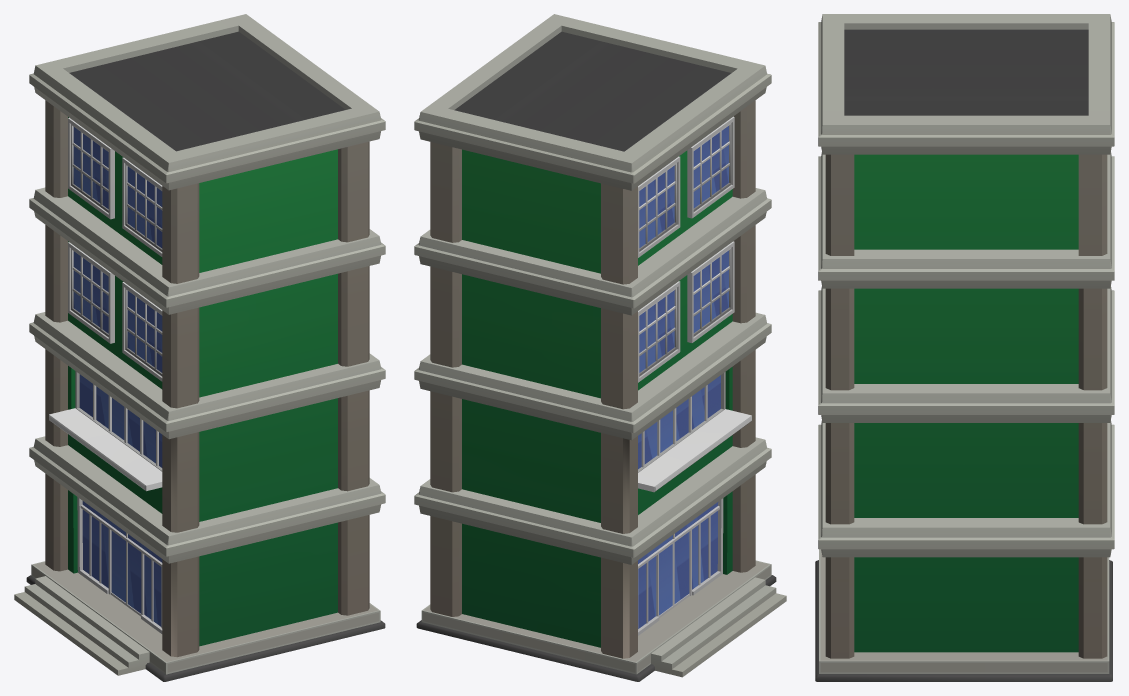
File: Building_9_1_FF.glb
The picture shows the model from 3 angles, left to right: view 1: azimuth 30°, elevation 25°; view 2: azimuth 150°, elevation 25°; view 3: azimuth 270°, elevation 25°; orthographic projection. The views are drawn at different scales.
Visible parts, largest first — view 1: Building_9_1_FF; view 2: Building_9_1_FF; view 3: Building_9_1_FF.
Boxes of the visible parts, x1,y1,x2,y2 form: Building_9_1_FF: (14, 14, 385, 681); Building_9_1_FF: (414, 14, 786, 681); Building_9_1_FF: (815, 14, 1114, 681).
Size of the model in its own units: 9.47 by 18.55 by 9.06.
Materials: 3 (3 with a texture image).
